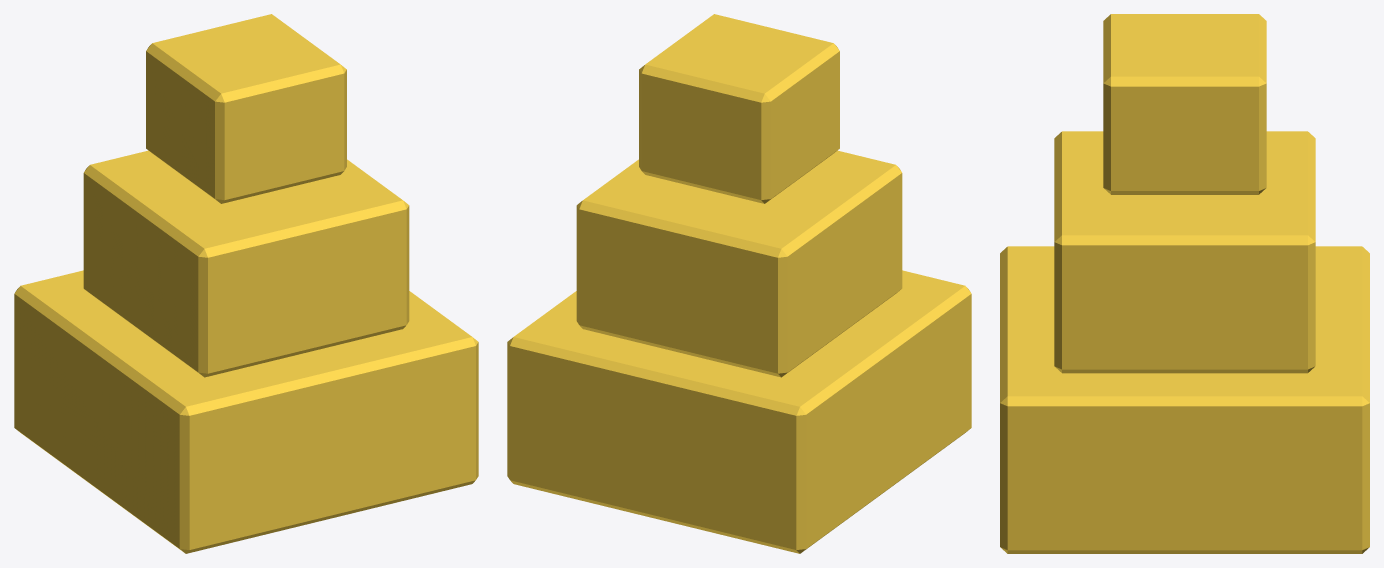
Rendered from sandcastle.glb.
3 views of the same model, side by side, from view 1: azimuth 30°, elevation 25°; view 2: azimuth 150°, elevation 25°; view 3: azimuth 270°, elevation 25° (orthographic). The views are drawn at different scales.
Visible parts, largest first — view 1: sandcastle; view 2: sandcastle; view 3: sandcastle.
Boxes of the visible parts, x1,y1,x2,y2 form: sandcastle: (14, 14, 478, 553); sandcastle: (507, 14, 971, 553); sandcastle: (1000, 14, 1369, 553).
Bounding box in the file's own units: 0.34 × 0.44 × 0.34.
